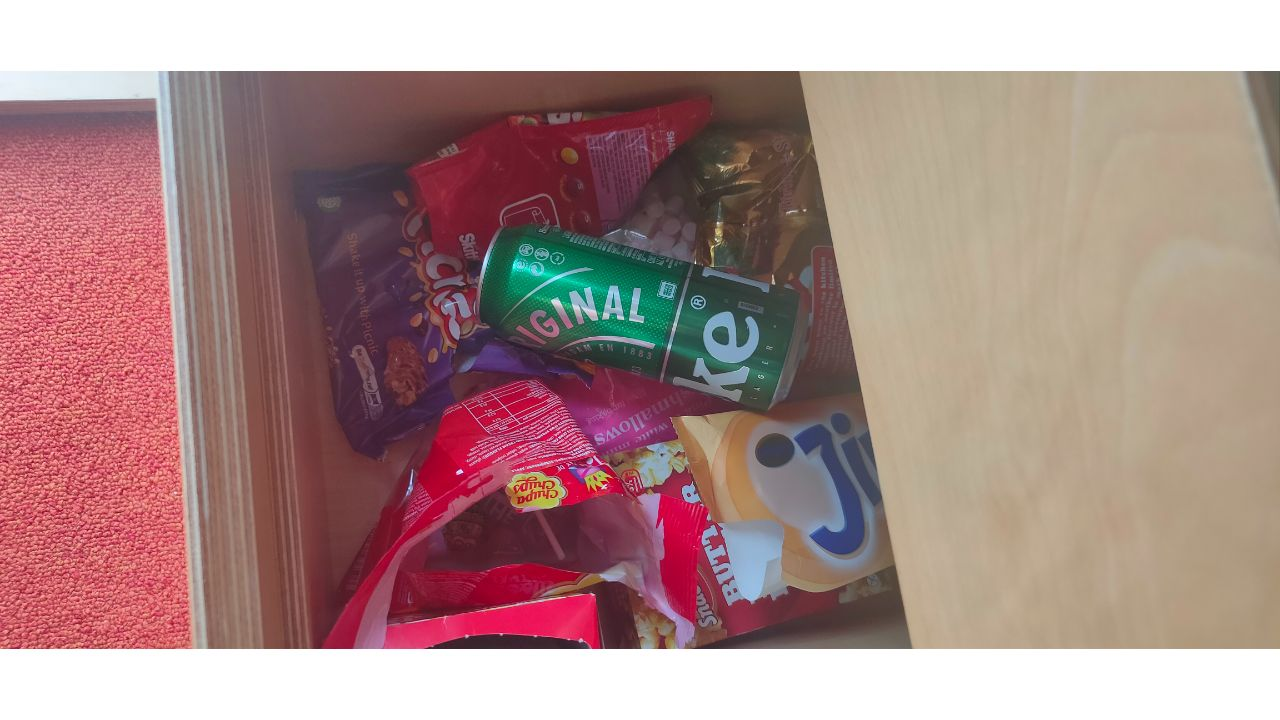Can: (476, 221, 808, 412)
